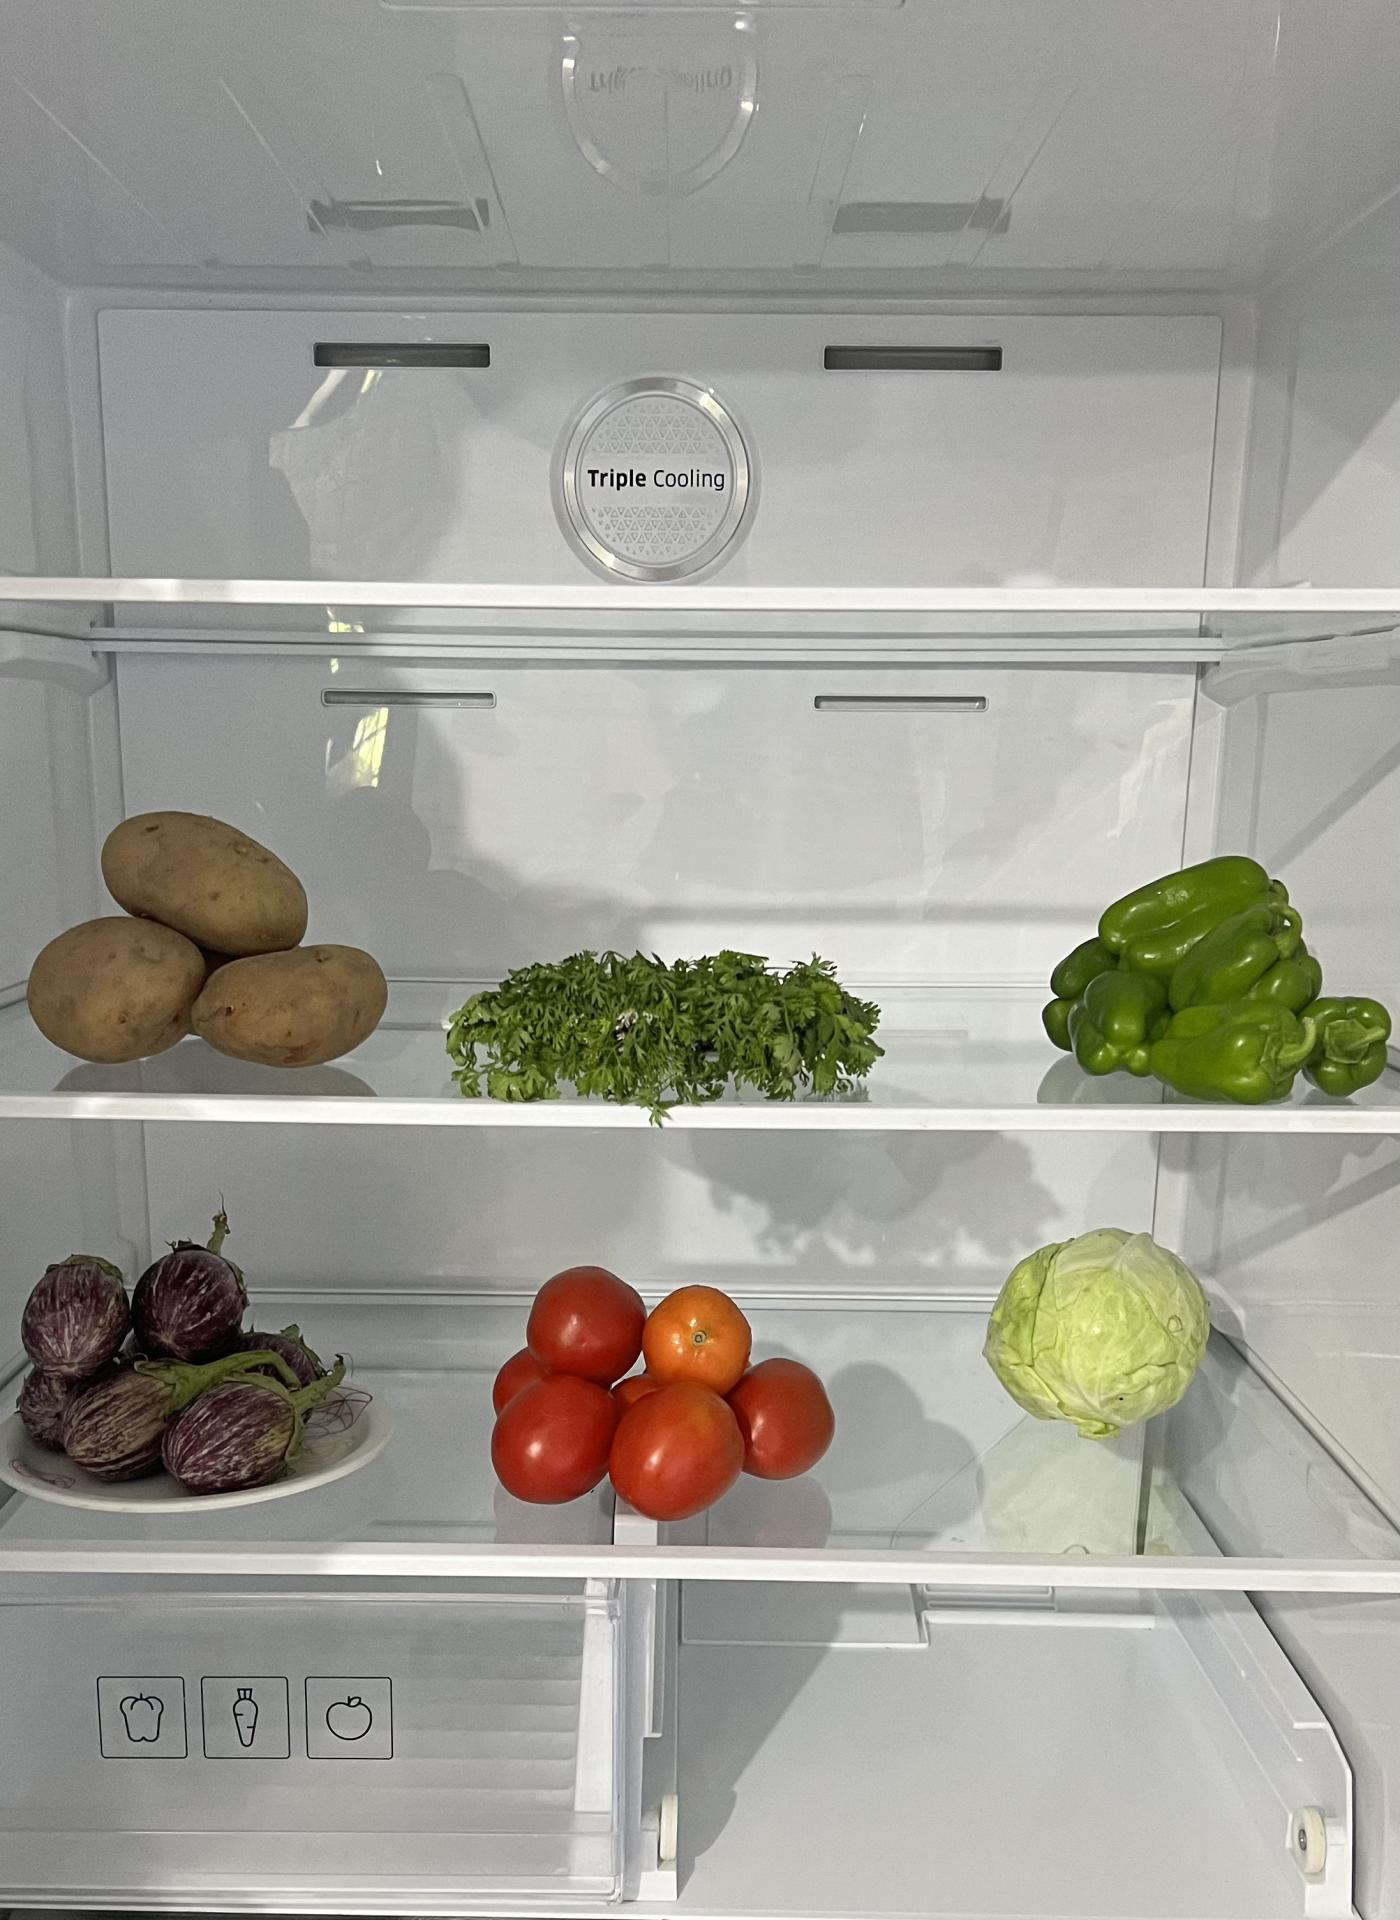capsicum: (1039, 853, 1387, 1096)
coriander: (456, 947, 881, 1105)
potato: (25, 806, 389, 1076)
tomato: (485, 1260, 833, 1519), (981, 1228, 1206, 1431)
